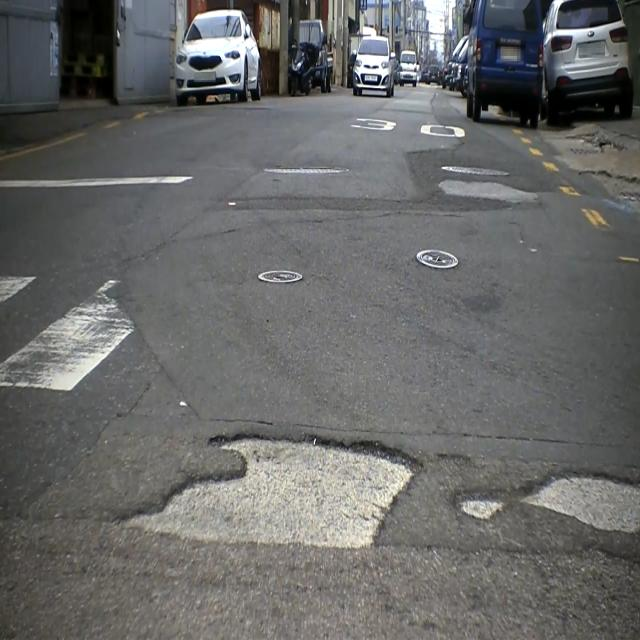Pothole: (113, 431, 420, 549), (451, 469, 640, 538), (439, 172, 538, 215)
